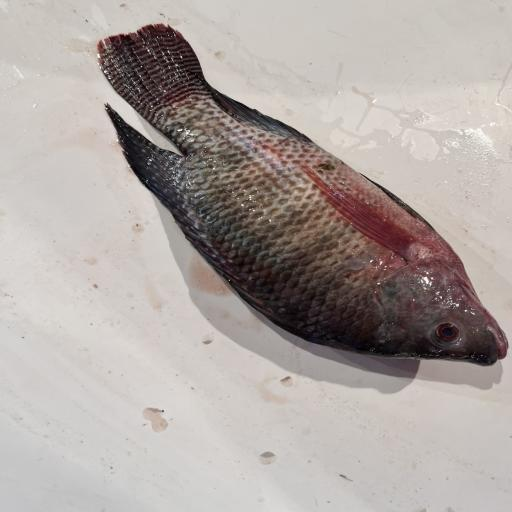Tilapia: (95, 23, 509, 367)
